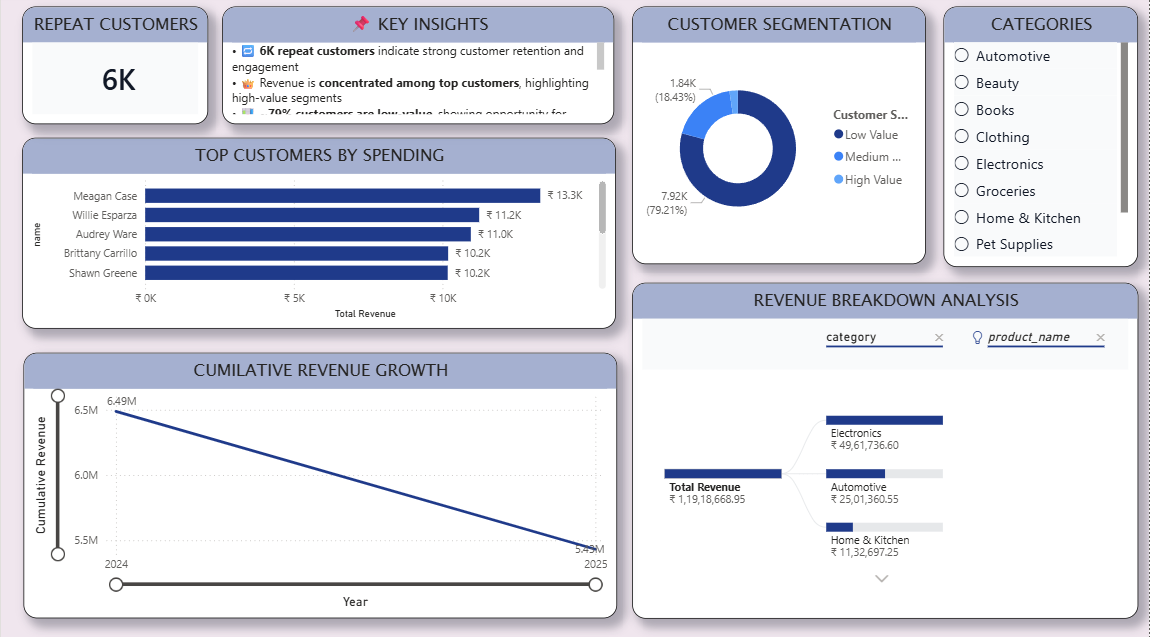

What the dashboard file says about the page in this screenshot:
{"tool":"powerbi","page":{"name":"Page 2","canvas":[1280,720],"ordinal":1},"visuals":[{"type":"clusteredBarChart","title":"TOP CUSTOMERS BY SPENDING","fields":{"Category":["ecommerce_sql users.name"],"Y":["ecommerce_sql order_items.Total Revenue"]},"box":[24.3,160,661.4,212.9],"z":0},{"type":"cardVisual","title":"REPEAT CUSTOMERS","fields":{"Data":["ecommerce_sql orders.Repeat Customers"]},"box":[24.3,14.3,207.1,131.4],"z":1000},{"type":"donutChart","title":"CUSTOMER SEGMENTATION","fields":{"Y":["CountNonNull(ecommerce_sql users.user_id)"],"Category":["ecommerce_sql users.Customer Segment"]},"box":[702.9,14.3,327.1,287.1],"z":2000},{"type":"decompositionTreeVisual","title":"REVENUE BREAKDOWN ANALYSIS","fields":{"Analyze":["ecommerce_sql order_items.Total Revenue"],"ExplainBy":["ecommerce_sql products.category","ecommerce_sql products.product_name","ecommerce_sql users.city"]},"box":[702.9,321.4,564.3,374.3],"z":3000},{"type":"lineChart","title":"CUMILATIVE REVENUE GROWTH","fields":{"Category":["ecommerce_sql orders.order_date.Variation.Date Hierarchy.Year","ecommerce_sql orders.order_date.Variation.Date Hierarchy.Month"],"Y":["ecommerce_sql order_items.Cumulative Revenue"]},"box":[24.7,399.3,661.4,296.4],"z":4000},{"type":"listSlicer","title":"CATEGORIES","fields":{"Values":["ecommerce_sql products.category"]},"box":[1050,14.3,217.1,290],"z":5000},{"type":"textbox","title":"📌 KEY INSIGHTS","box":[247.1,14.3,437.1,131.4],"z":6000}]}

Visuals, with their boxes in screenshot pixels (x1, y1, x2, y2), scaled from the page's 1280x720 canvas onto the 1150x637 screenshot:
"TOP CUSTOMERS BY SPENDING" clusteredBarChart: x1=22 y1=142 x2=616 y2=330
"REPEAT CUSTOMERS" cardVisual: x1=22 y1=13 x2=208 y2=129
"CUSTOMER SEGMENTATION" donutChart: x1=632 y1=13 x2=925 y2=267
"REVENUE BREAKDOWN ANALYSIS" decompositionTreeVisual: x1=632 y1=284 x2=1138 y2=616
"CUMILATIVE REVENUE GROWTH" lineChart: x1=22 y1=353 x2=616 y2=616
"CATEGORIES" listSlicer: x1=943 y1=13 x2=1138 y2=269
"📌 KEY INSIGHTS" textbox: x1=222 y1=13 x2=615 y2=129
